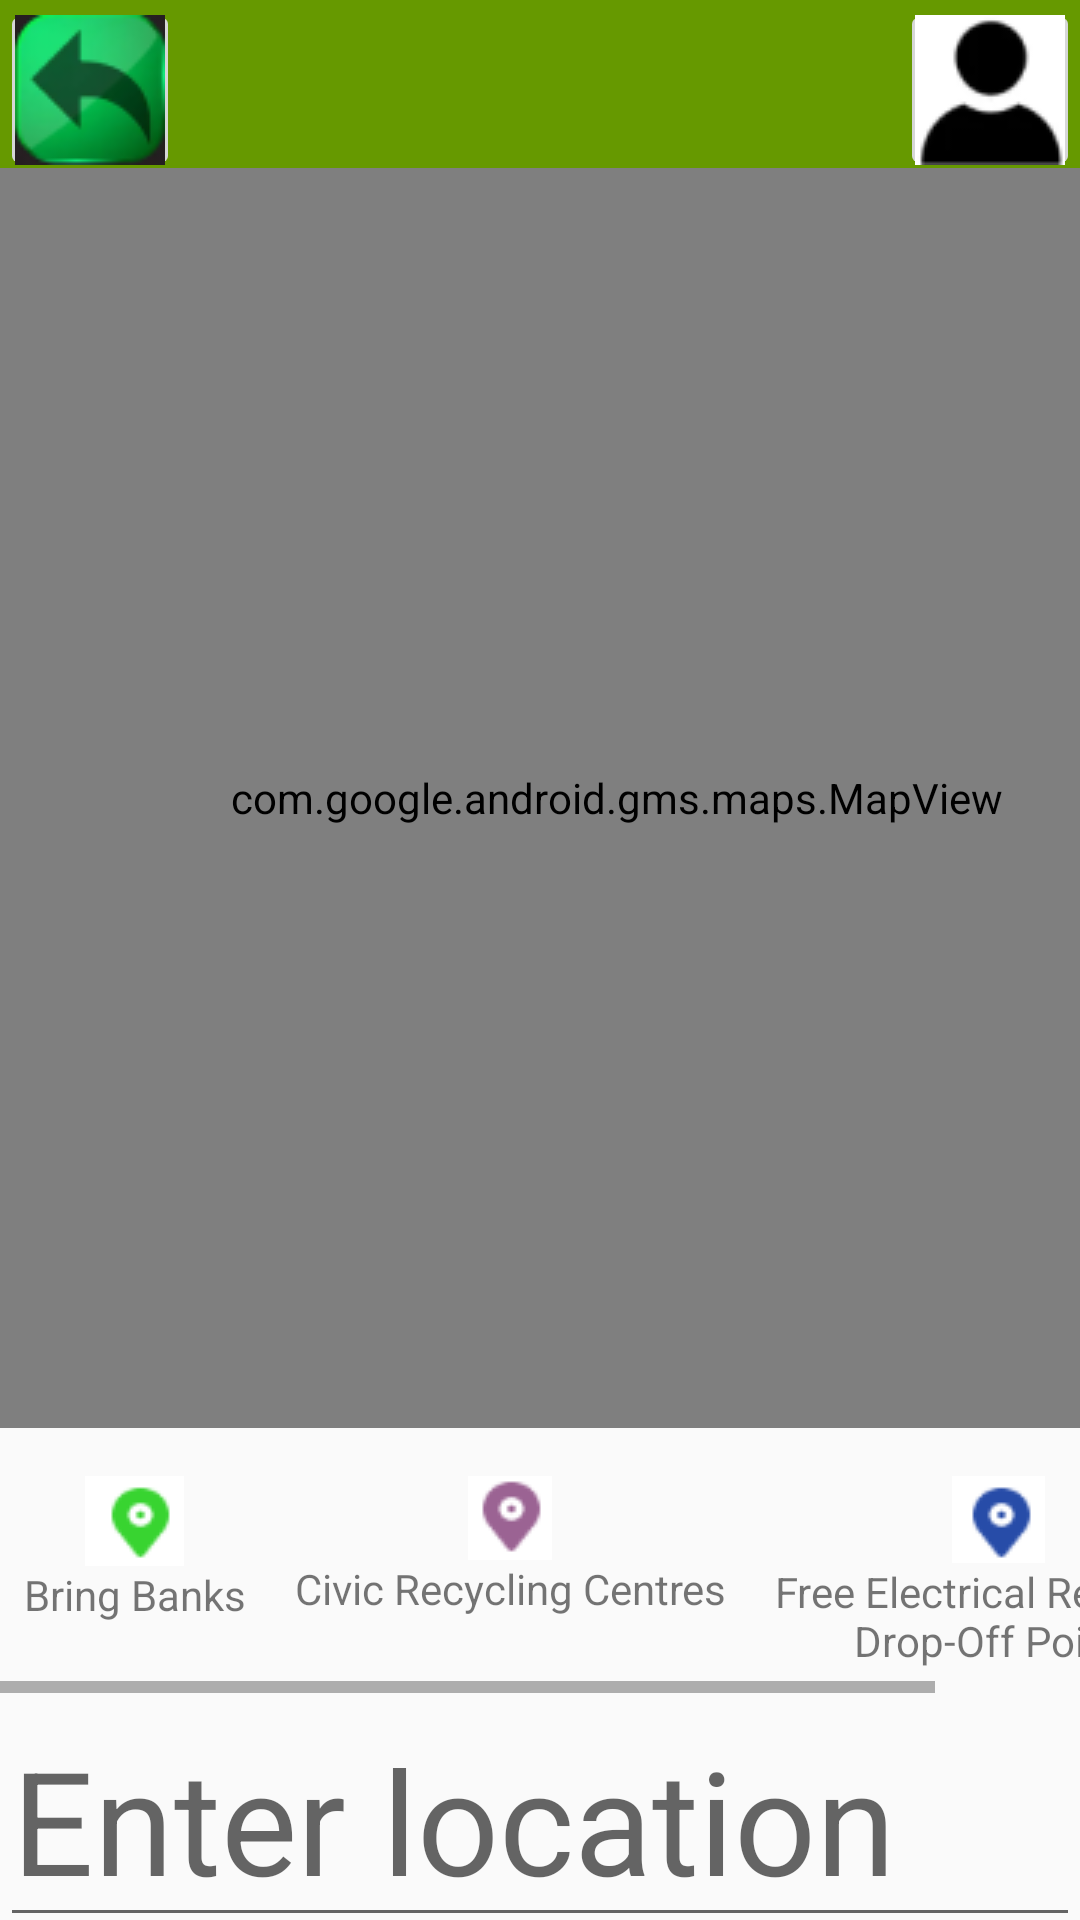

Point at icon controls on the screen. Image size 1080 × 1920, points as (x,y).
back: (90,90)
Open account information: (990,90)
